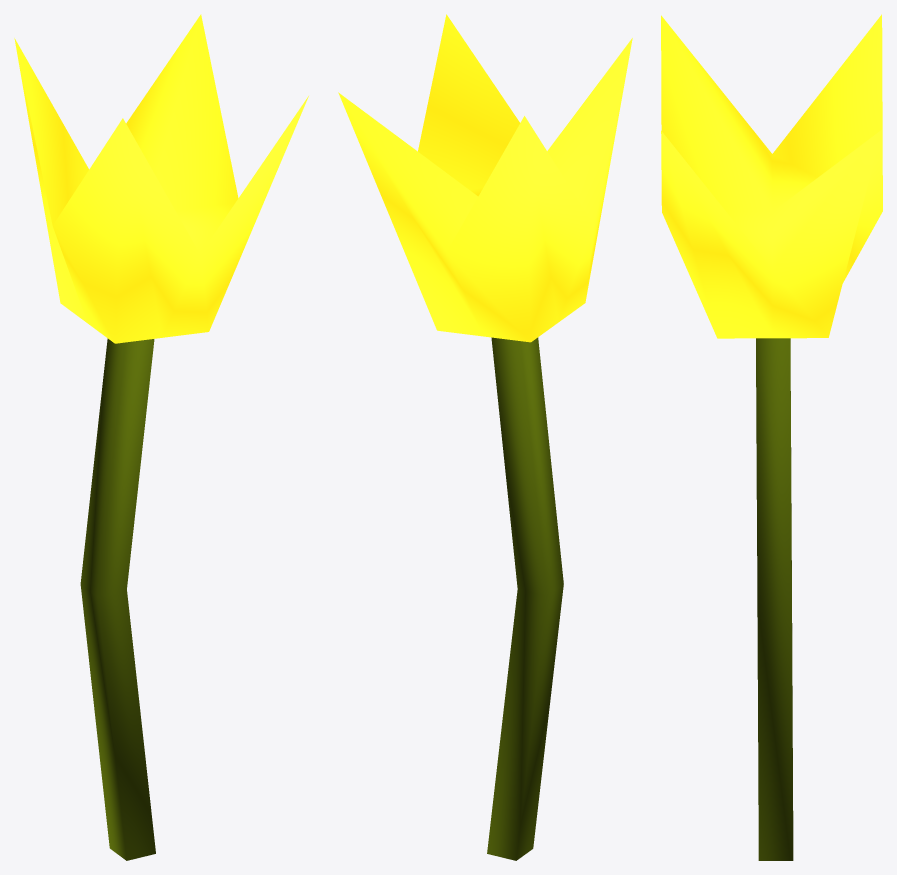
Rendered from GlowFlower.fbx.
3 views of the same model, side by side, from view 1: azimuth 30°, elevation 25°; view 2: azimuth 150°, elevation 25°; view 3: azimuth 270°, elevation 25° (orthographic). The views are drawn at different scales.
Visible parts, largest first — view 1: Cube.093; view 2: Cube.093; view 3: Cube.093.
Boxes of the visible parts, box(x1,y1,x2,y2) form: Cube.093: box(14, 14, 308, 860); Cube.093: box(338, 14, 632, 860); Cube.093: box(661, 14, 882, 860).
Bounding box in the file's own units: 215 × 805 × 201.
